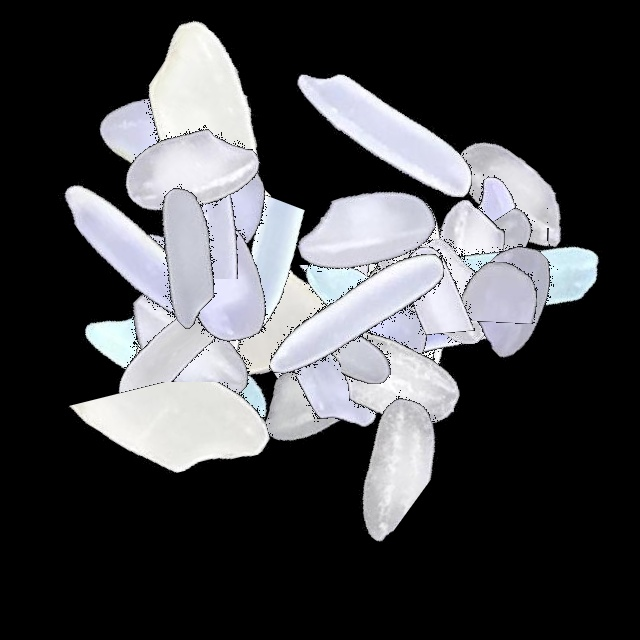Broken: (172, 160, 346, 410), (87, 106, 337, 279), (77, 297, 327, 467), (295, 145, 460, 395), (280, 317, 439, 567), (219, 258, 469, 416), (368, 135, 512, 385), (48, 382, 298, 521), (264, 208, 398, 458), (434, 135, 558, 385), (186, 237, 306, 487), (339, 159, 457, 409), (264, 157, 379, 407), (214, 265, 464, 377), (297, 249, 409, 499), (341, 223, 449, 473), (390, 245, 640, 330), (80, 149, 330, 234), (144, 49, 228, 299), (382, 202, 632, 285), (340, 151, 590, 232), (303, 255, 380, 505)
Full: (52, 239, 302, 489), (390, 68, 640, 318), (258, 8, 508, 258), (341, 118, 591, 368), (37, 8, 287, 258), (348, 139, 598, 389), (202, 270, 452, 520), (64, 156, 314, 406), (126, 199, 376, 449), (69, 216, 319, 466), (277, 170, 527, 420), (275, 172, 525, 422), (54, 182, 304, 432), (61, 224, 311, 474), (387, 152, 637, 402), (11, 127, 261, 377), (303, 199, 553, 449), (210, 253, 460, 503), (85, 0, 335, 250), (265, 192, 515, 442), (270, 253, 520, 503), (100, 71, 350, 321), (95, 155, 345, 405), (311, 167, 561, 417), (390, 172, 640, 422), (66, 47, 316, 297), (56, 130, 306, 380), (233, 187, 483, 437)
